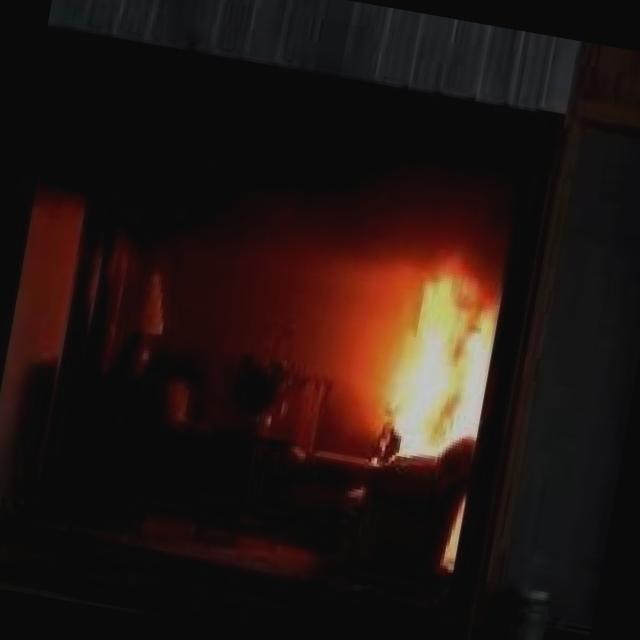fire: (329, 219, 534, 484)
